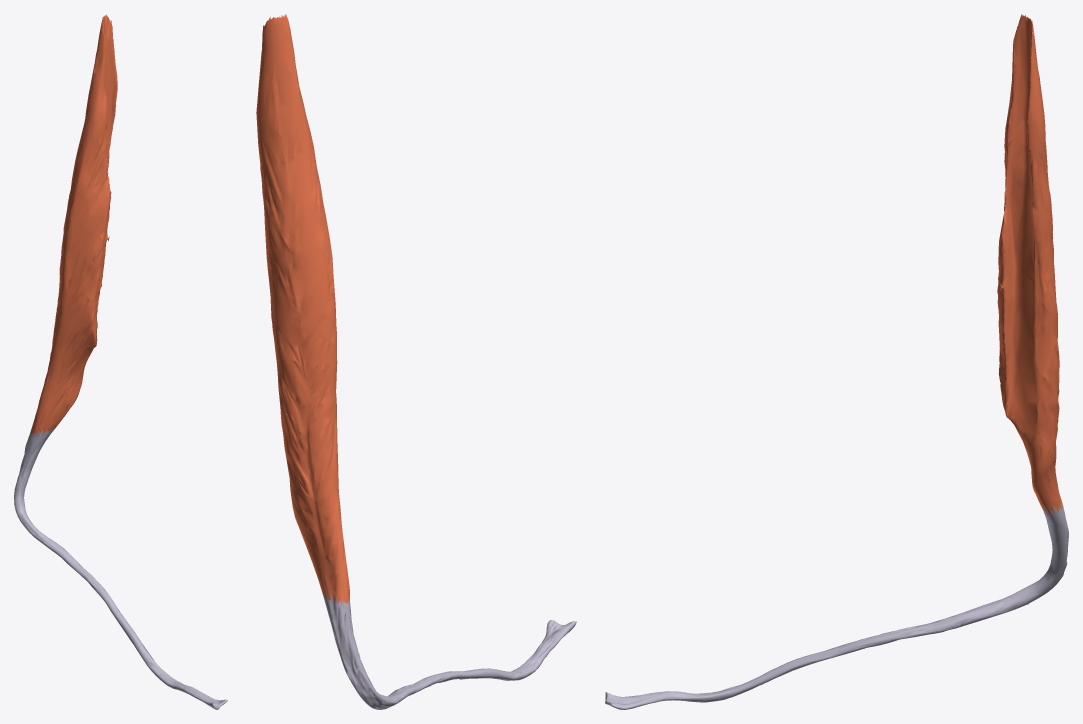
The model's file is Flexor_hallucis_longus.l_Generated_Mesh_From_X3D.496.glb.
The picture shows the model from 3 angles, left to right: view 1: azimuth 30°, elevation 25°; view 2: azimuth 150°, elevation 25°; view 3: azimuth 270°, elevation 25°; orthographic projection. The views are drawn at different scales.
Parts seen in each view (by area): view 1: Flexor_hallucis_longus.l_Generated_Mesh_From_X3D.496; view 2: Flexor_hallucis_longus.l_Generated_Mesh_From_X3D.496; view 3: Flexor_hallucis_longus.l_Generated_Mesh_From_X3D.496.
Part boxes in pixels (bbox=[...]): Flexor_hallucis_longus.l_Generated_Mesh_From_X3D.496: bbox=[14, 14, 227, 709]; Flexor_hallucis_longus.l_Generated_Mesh_From_X3D.496: bbox=[256, 14, 576, 709]; Flexor_hallucis_longus.l_Generated_Mesh_From_X3D.496: bbox=[605, 14, 1068, 709].
Bounding box in the file's own units: 0.0566 × 0.3177 × 0.1848.
